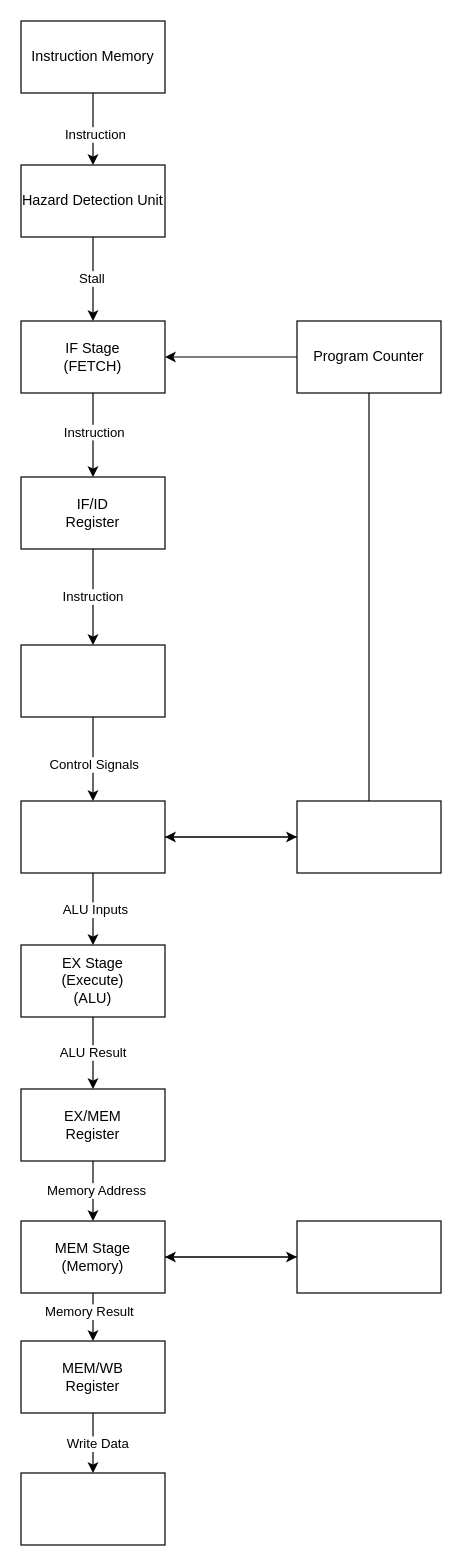
Some shapes in this 462 by 1566 pixel diagram are drawn without their labels. The shapes that lost their labels are listed below. From the top down, each one's centre as x and y in pixels, then its label:
[92,680]: ID Stage (Decode)
[92,836]: ID/EX Register
[368,836]: Register File
[368,1256]: Data Memory
[92,1508]: WB Stage (Write Back)
